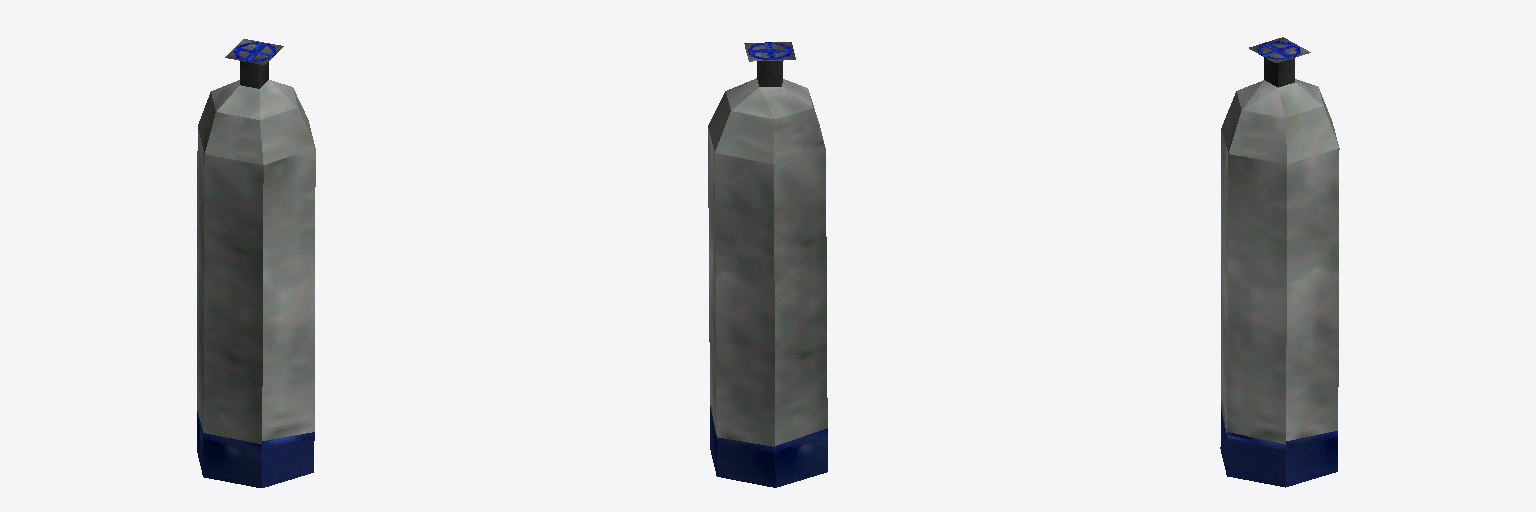
3 views of the same model, side by side, from view 1: azimuth 30°, elevation 25°; view 2: azimuth 150°, elevation 25°; view 3: azimuth 270°, elevation 25° (orthographic).
Visible parts, largest first — view 1: cylinder1; view 2: cylinder1; view 3: cylinder1.
Boxes of the visible parts, box(x1,y1,x2,y2) form: cylinder1: box(197, 39, 315, 487); cylinder1: box(708, 42, 827, 487); cylinder1: box(1220, 37, 1339, 487).
Size of the model in its own units: 19.37 by 67.28 by 17.7.
1 materials, 1 textured.